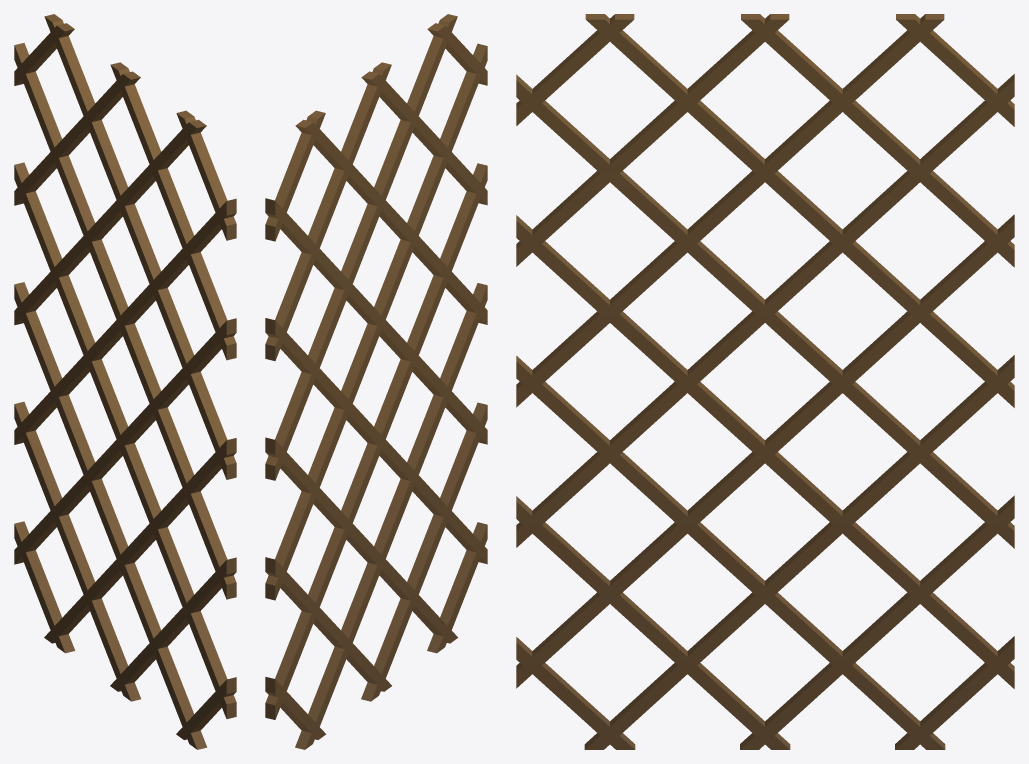
The model's file is Trellis.fbx.
The picture shows the model from 3 angles, left to right: view 1: azimuth 30°, elevation 25°; view 2: azimuth 150°, elevation 25°; view 3: azimuth 270°, elevation 25°; orthographic projection. The views are drawn at different scales.
Parts seen in each view (by area): view 1: Trellis.002; view 2: Trellis.002; view 3: Trellis.002.
Part boxes in pixels (<box>): Trellis.002: <box>14,14,236,749</box>; Trellis.002: <box>265,14,487,749</box>; Trellis.002: <box>516,14,1014,749</box>.
Size of the model in its own units: 4.65 by 277 by 171.
